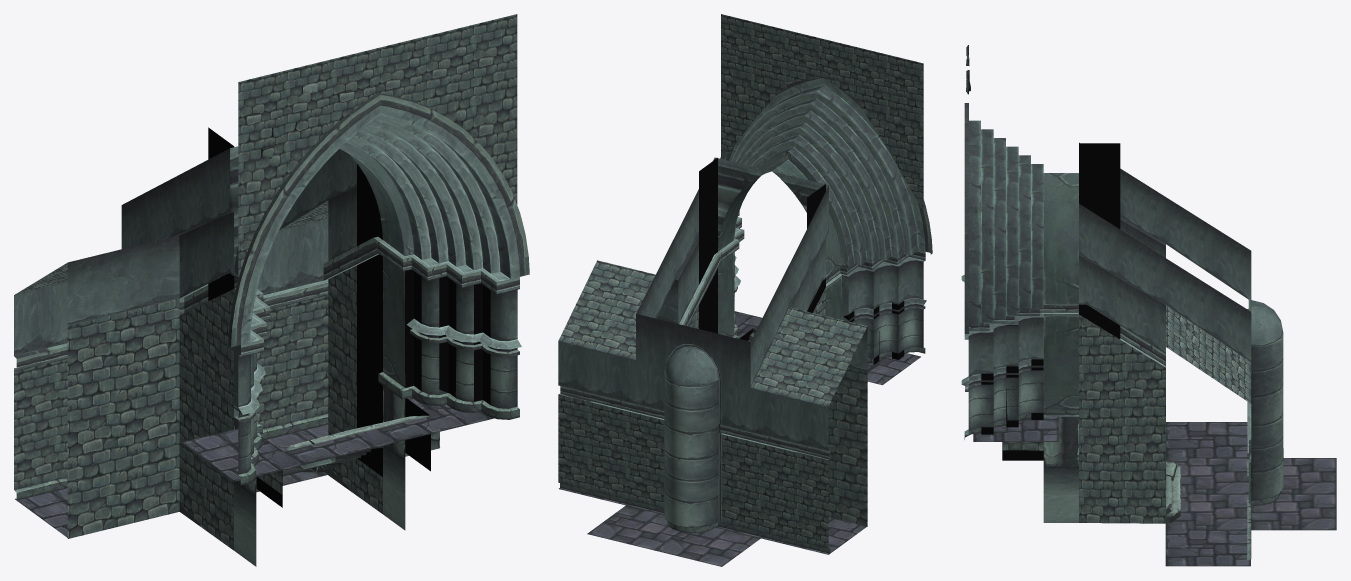
Rendered from crypt_exit_stairs_01.fbx.
3 renders of one model, left to right at view 1: azimuth 30°, elevation 25°; view 2: azimuth 150°, elevation 25°; view 3: azimuth 270°, elevation 25°, orthographic. The views are drawn at different scales.
Visible parts, largest first — view 1: crypt_exit_stairs_01-0; view 2: crypt_exit_stairs_01-0; view 3: crypt_exit_stairs_01-0.
Boxes of the visible parts, x1,y1,x2,y2 form: crypt_exit_stairs_01-0: (14,14,529,566); crypt_exit_stairs_01-0: (558,14,932,566); crypt_exit_stairs_01-0: (961,45,1336,566).
Bounding box in the file's own units: 16.01 × 22.03 × 17.55.
